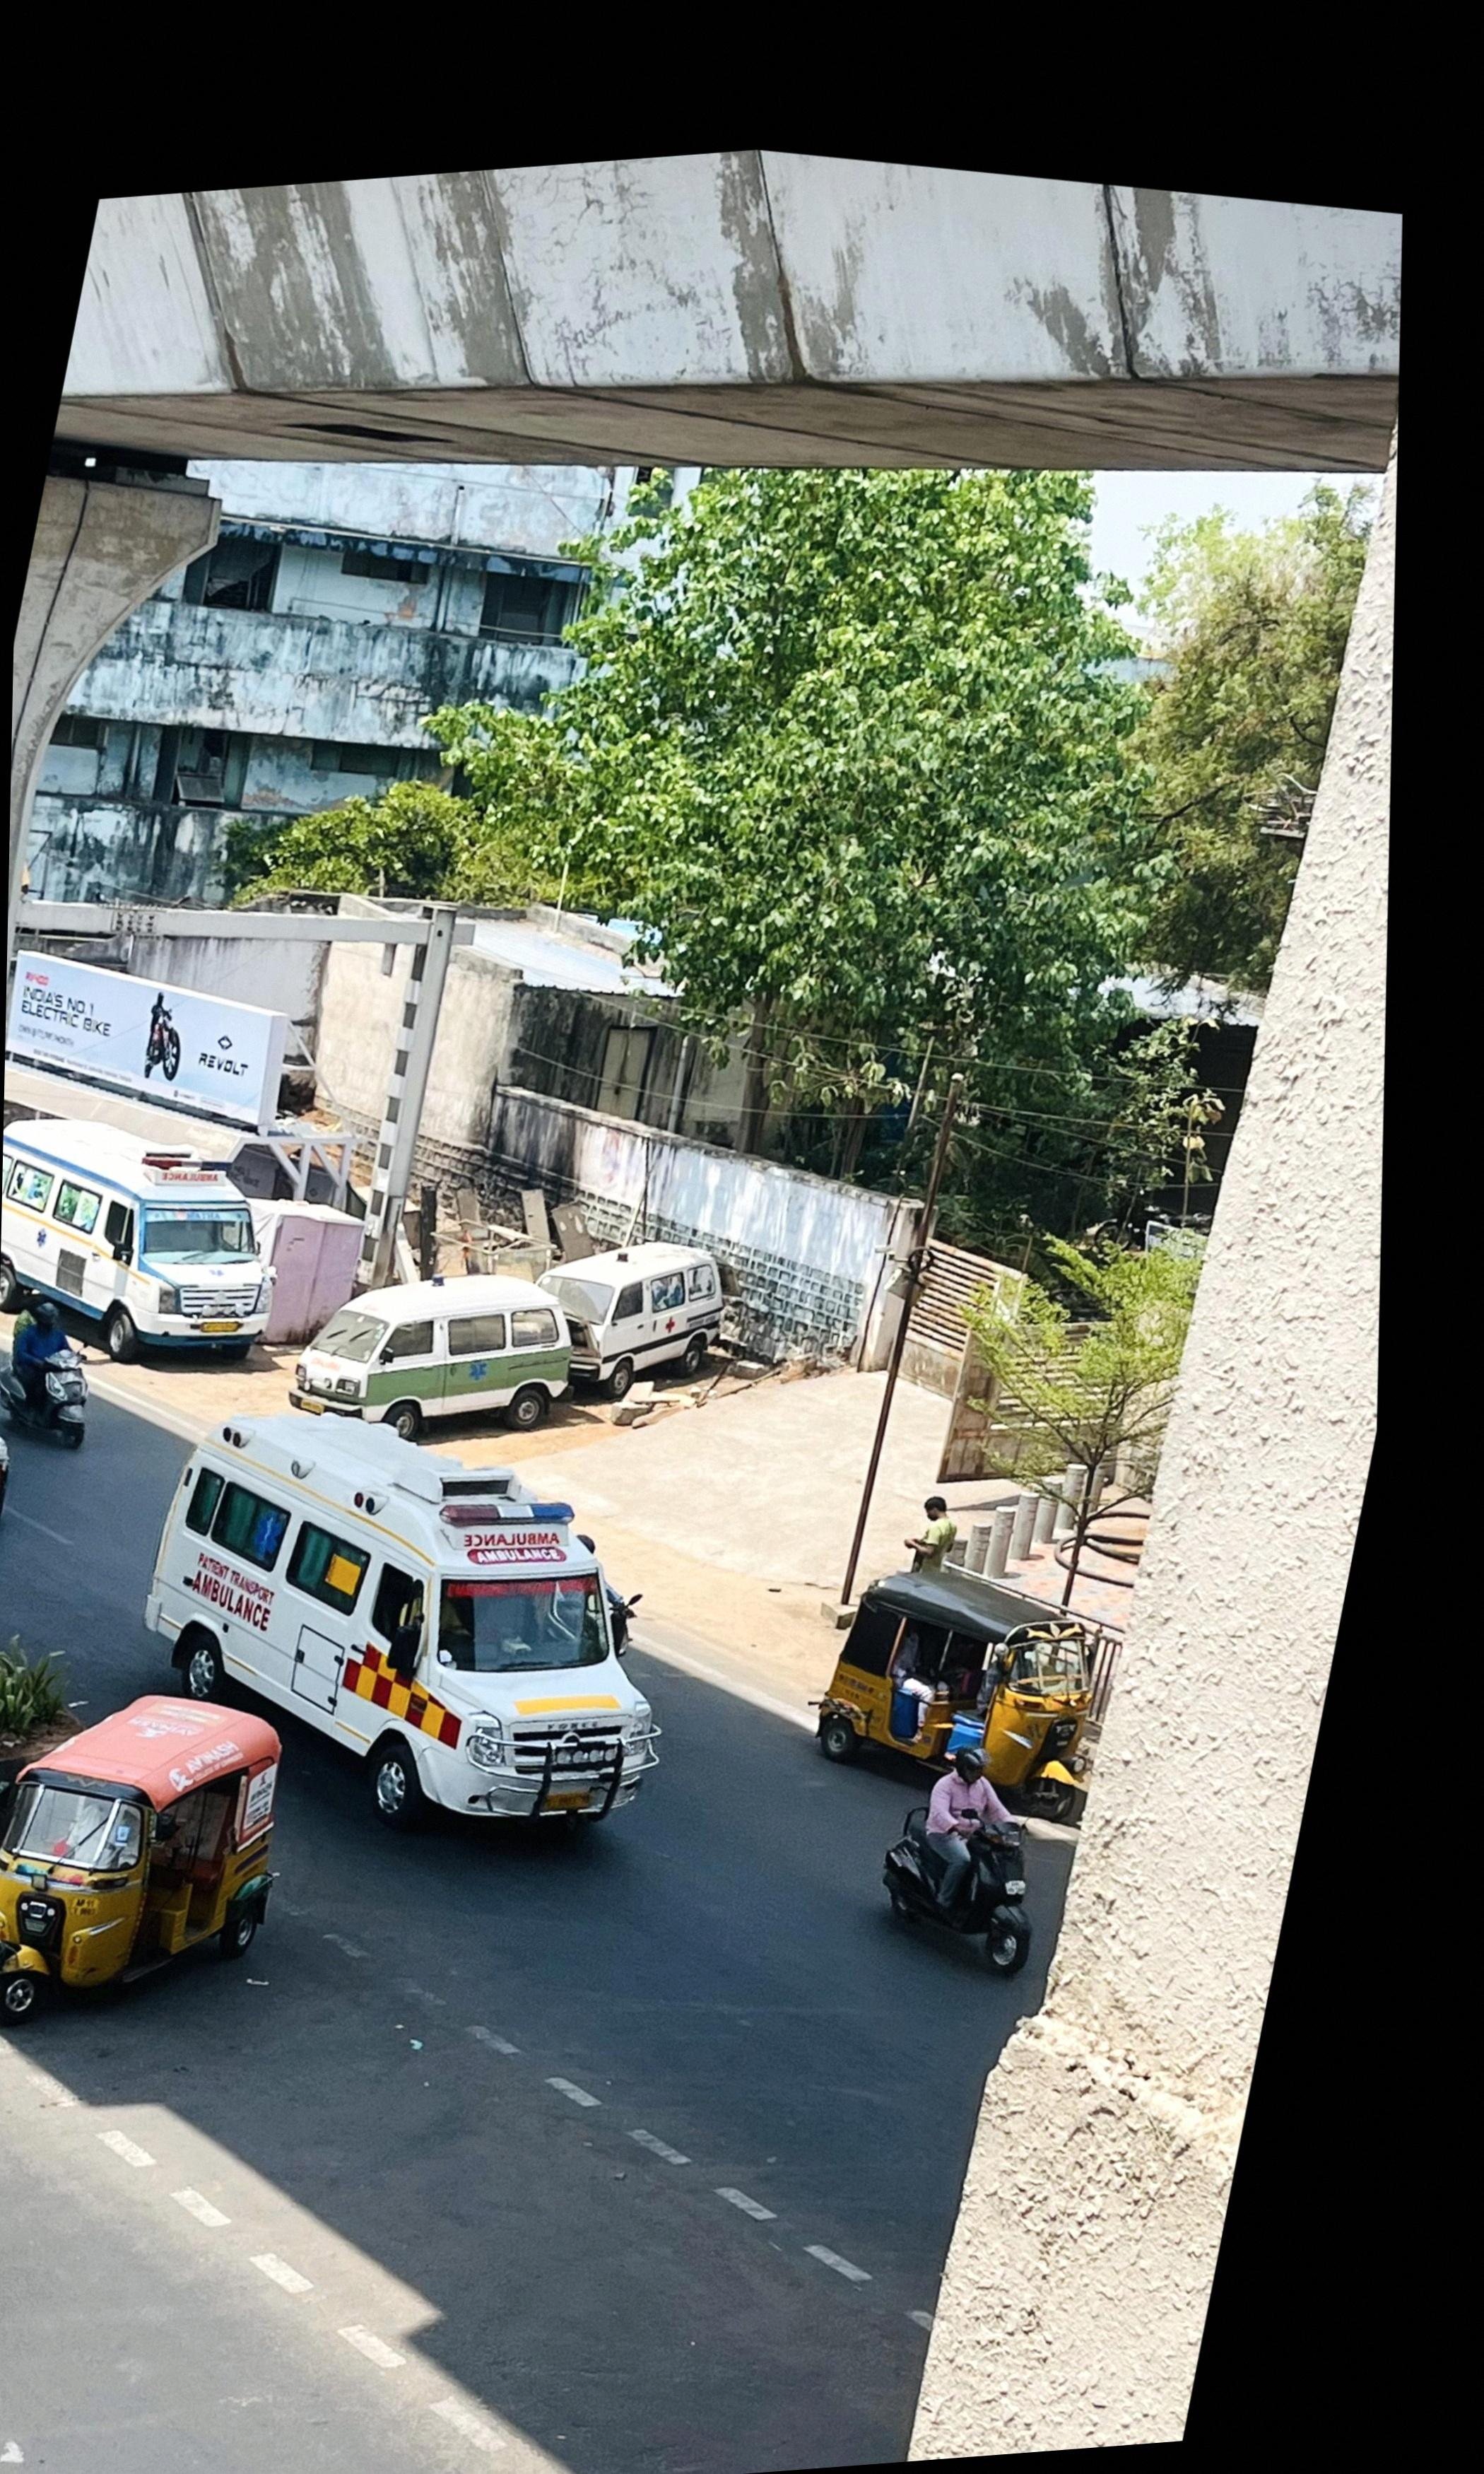ambulance: (155, 1415, 657, 1838)
